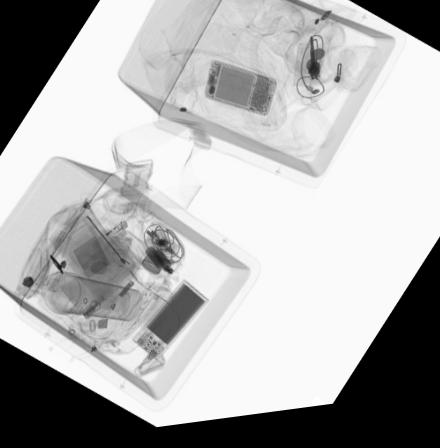Lighter: (91, 221, 128, 252)
